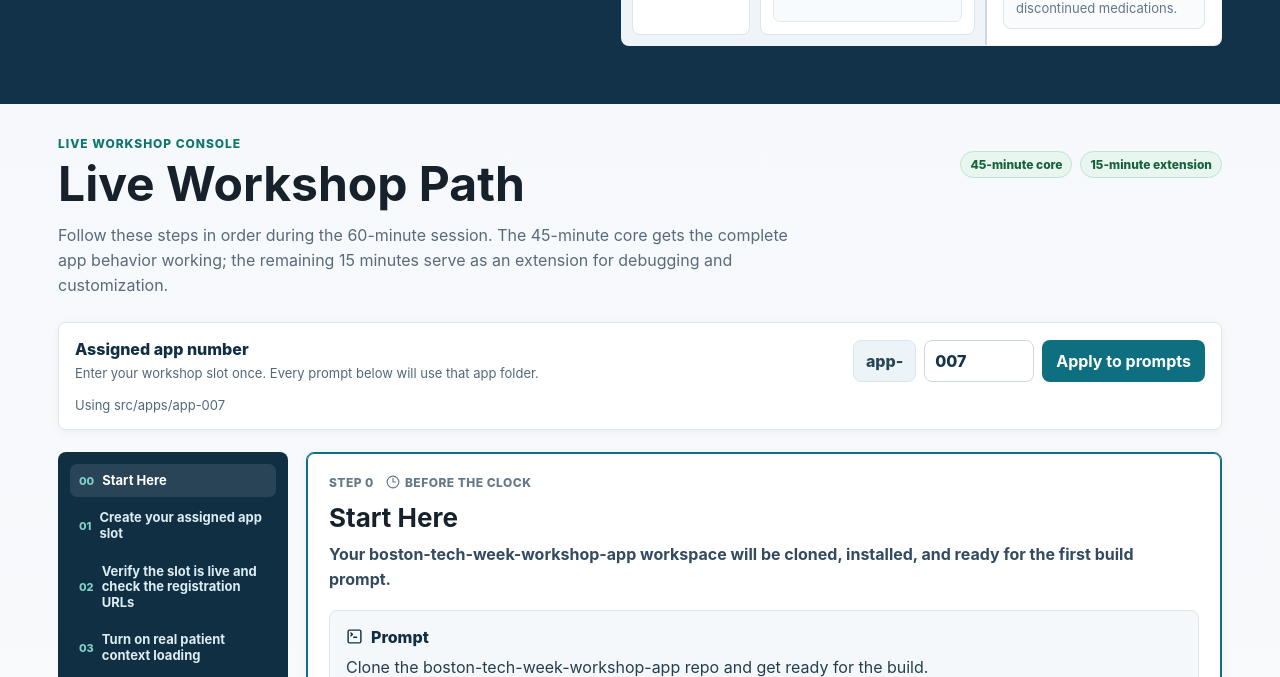
Test: Workshop guide › applies the assigned app slot to workshop prompts
The width and height of the screenshot is (1280, 677).
(page scrolled)
Type "101" into the field labelled "Assigned app number" at [979, 361], box x1=924 y1=340 x2=1034 y2=382
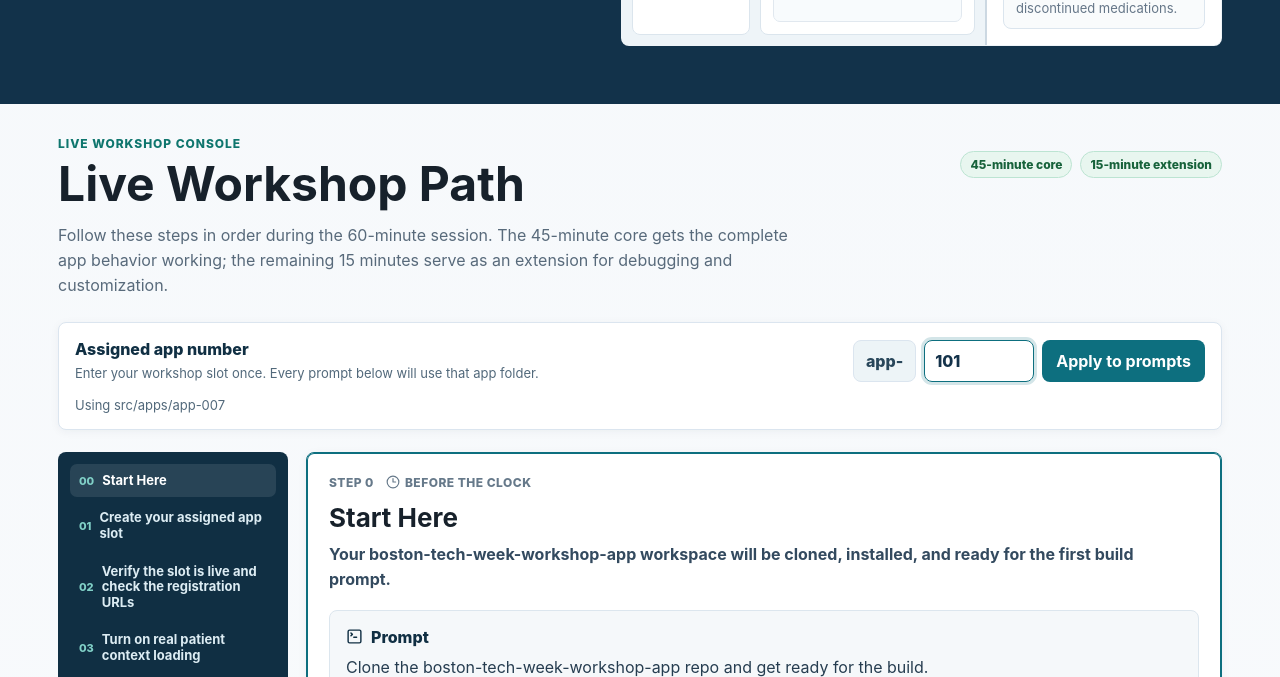
Click the button "Apply to prompts" at [1124, 361], box x1=1042 y1=340 x2=1205 y2=382
(page scrolled)
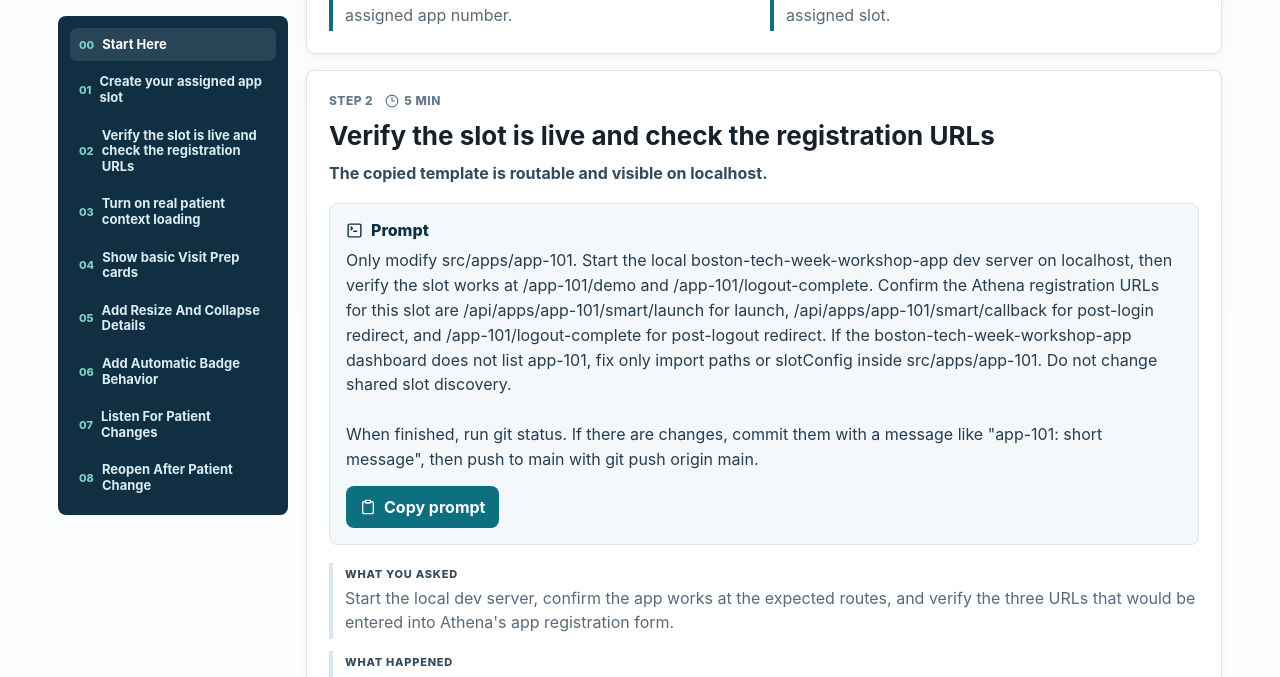
Check: the text "/app-101/logout-complete" is shown, box x1=346 y1=250 x2=1177 y2=469
